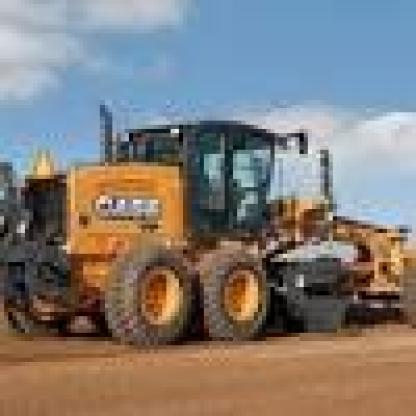bull_dozer/loader/grader: (8, 100, 412, 370)
